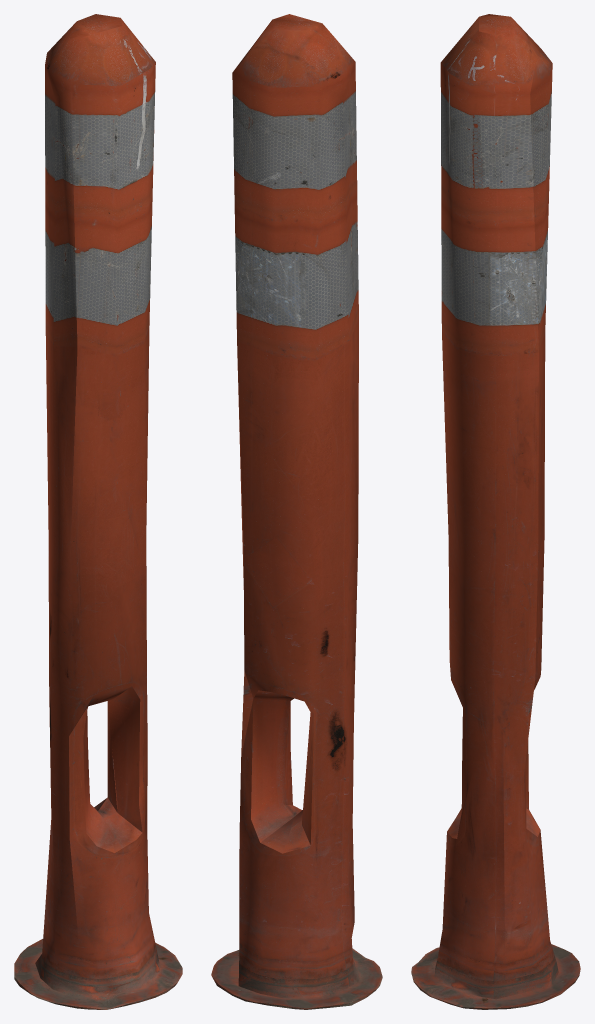
The model's file is SM_JiaoTongGan.glb.
The picture shows the model from 3 angles, left to right: view 1: azimuth 30°, elevation 25°; view 2: azimuth 150°, elevation 25°; view 3: azimuth 270°, elevation 25°; orthographic projection.
Visible parts, largest first — view 1: SM_JiaoTongGan; view 2: SM_JiaoTongGan; view 3: SM_JiaoTongGan.
Boxes of the visible parts, x1,y1,x2,y2 form: SM_JiaoTongGan: [14, 14, 182, 1009]; SM_JiaoTongGan: [211, 14, 382, 1009]; SM_JiaoTongGan: [411, 14, 580, 1009].
Size of the model in its own units: 0.1626 by 1 by 0.1619.
1 material, 1 textured.
